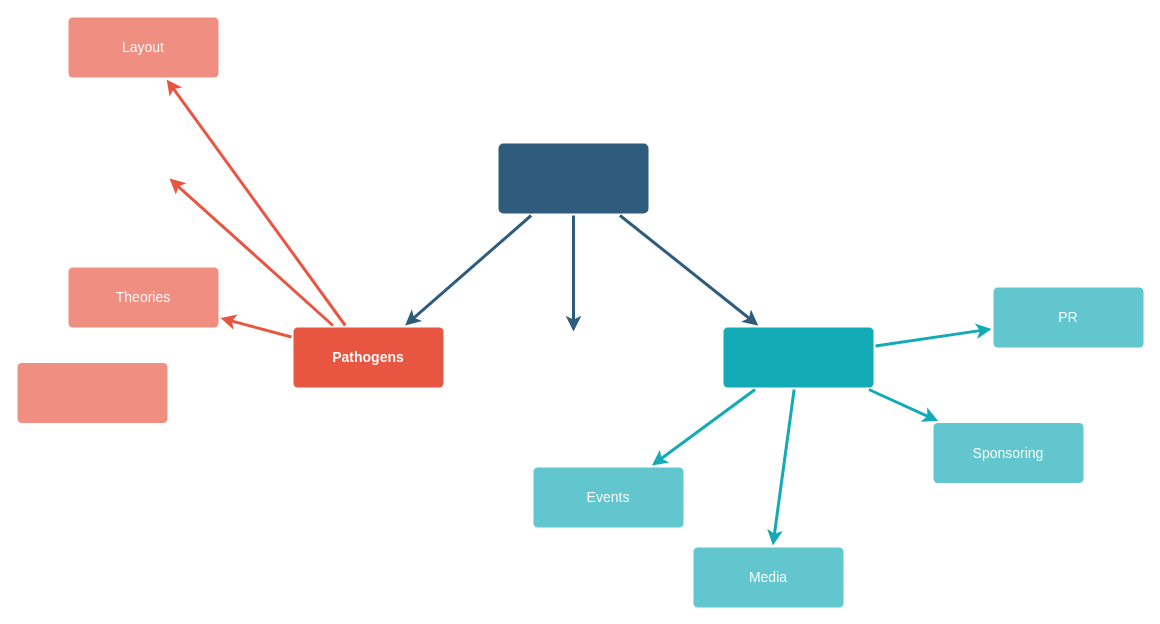
Image size: 1160x624. Some labels were removed from this diagram. Each missing label, with the centre of its shape:
"Appeal" belongs at [92,392].
"Infectious diseases" belongs at [573,178].
"Vectors" belongs at [798,357].
